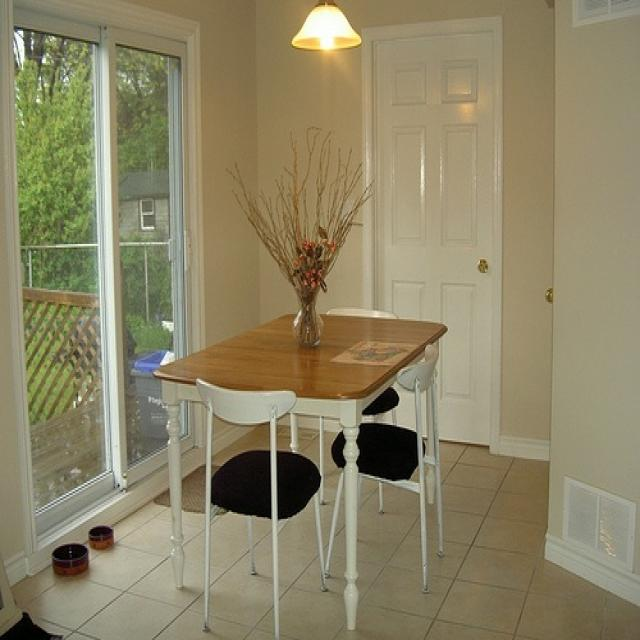chair: (192, 377, 331, 640), (322, 343, 445, 592), (320, 298, 407, 423)
diningtable: (159, 310, 451, 631)
